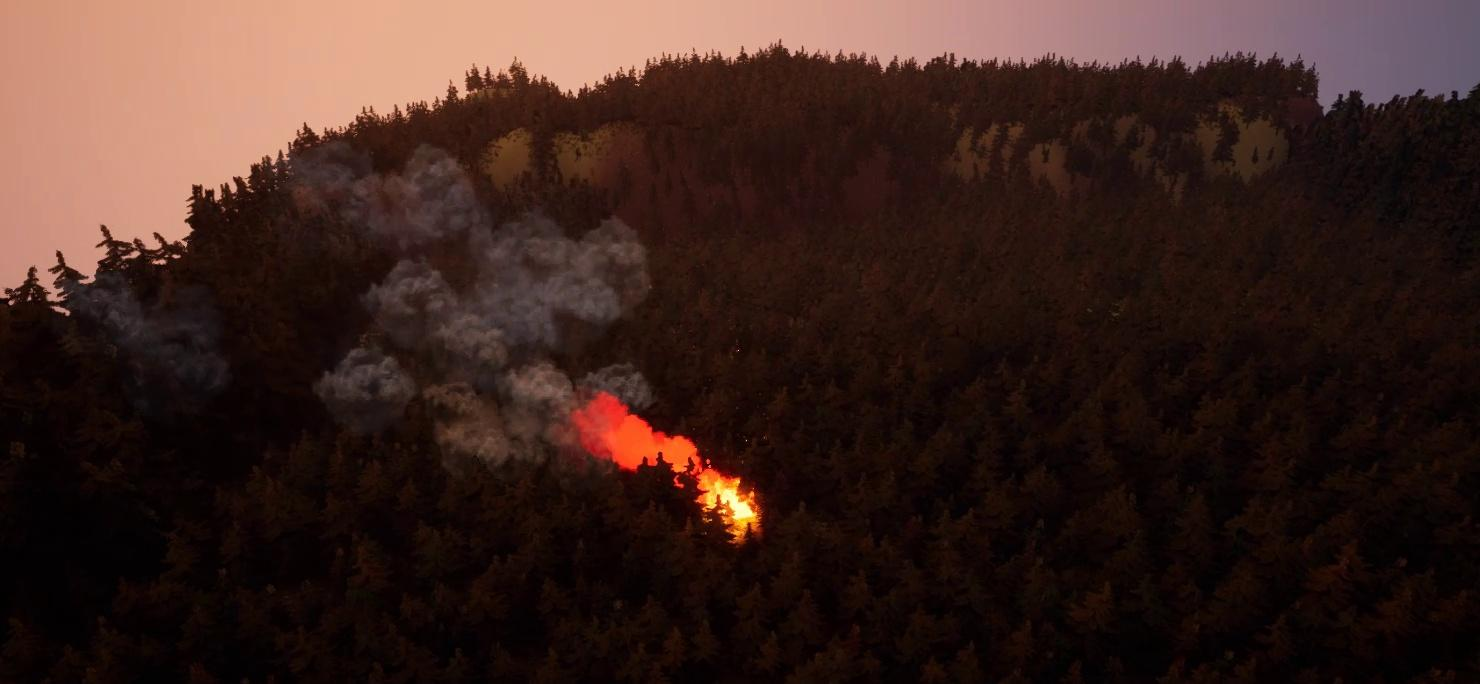fire: (577, 391, 762, 547)
smoke: (280, 147, 636, 470)
